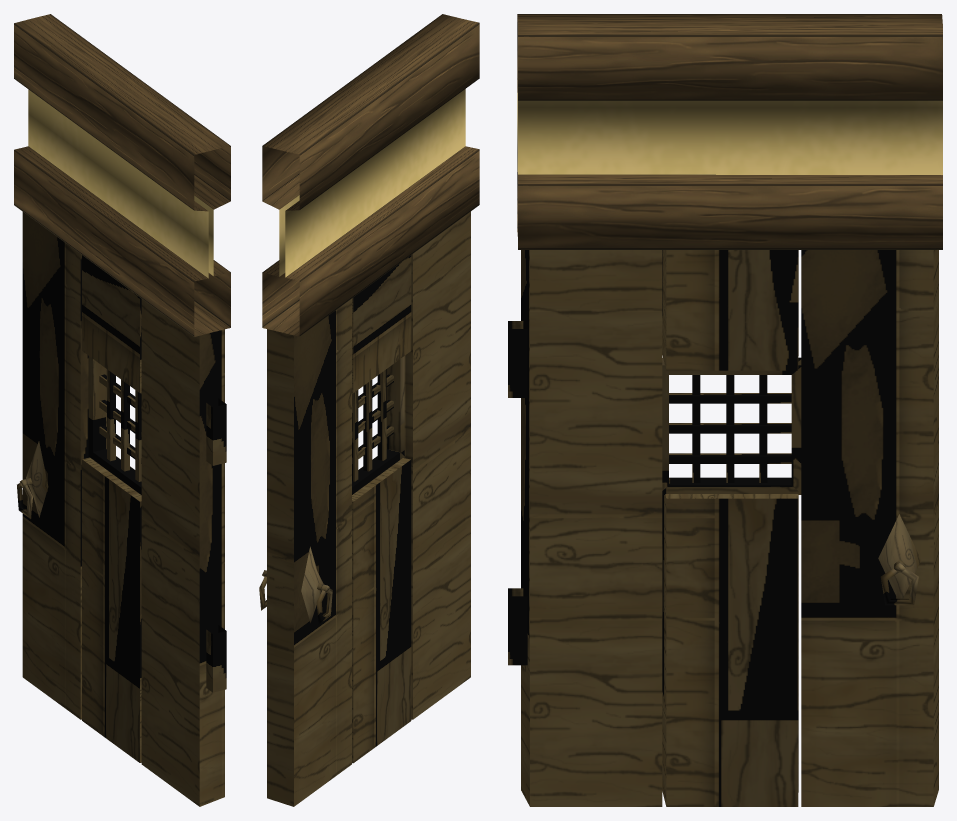
The model's file is drzwi.fbx.
3 renders of one model, left to right at view 1: azimuth 30°, elevation 25°; view 2: azimuth 150°, elevation 25°; view 3: azimuth 270°, elevation 25°, orthographic. The views are drawn at different scales.
Visible parts, largest first — view 1: Cube, Cube.001; view 2: Cube, Cube.001; view 3: Cube, Cube.001.
Part boxes in pixels (left/top/right/bottom): Cube: left=17, top=212, right=226, bottom=806; Cube.001: left=14, top=14, right=230, bottom=336; Cube: left=259, top=211, right=470, bottom=806; Cube.001: left=262, top=14, right=479, bottom=336; Cube: left=508, top=250, right=938, bottom=806; Cube.001: left=517, top=14, right=942, bottom=249.
Size of the model in its own units: 91.29 by 903 by 461.
